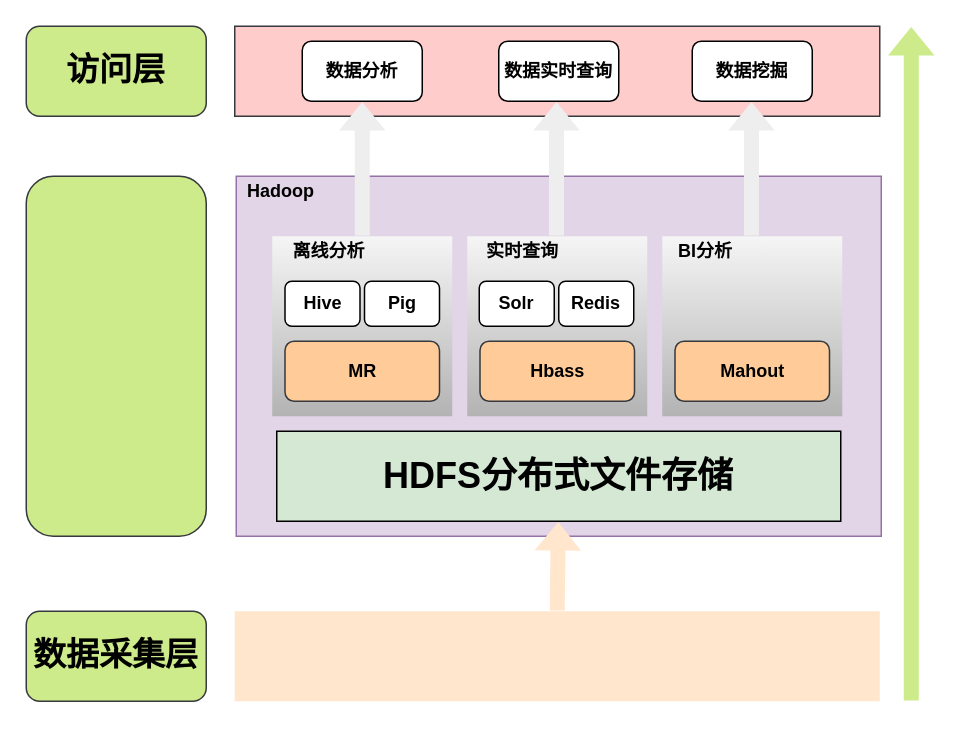
This 960x729 diagram has some shape labels left out. The shapes that lost their labels are listed below. From the top down, each one's centre as x and y in pixels, then its label:
point (115, 355): 大数据层
point (556, 655): 数据源
